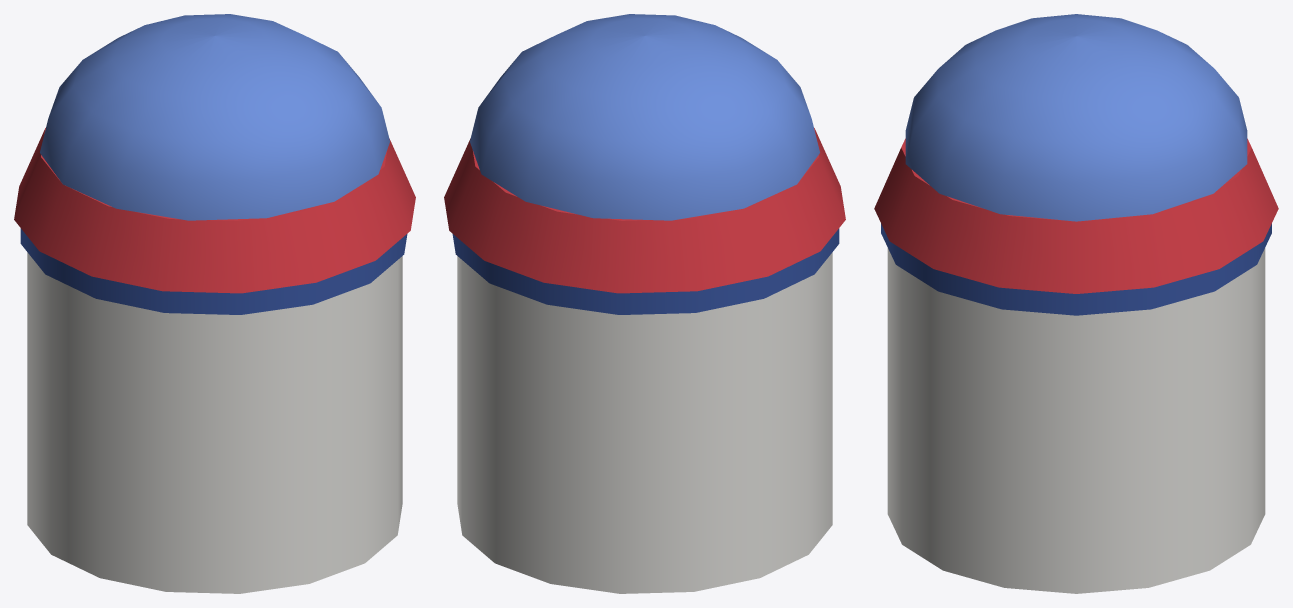
The model's file is storage_drum.glb.
The picture shows the model from 3 angles, left to right: view 1: azimuth 30°, elevation 25°; view 2: azimuth 150°, elevation 25°; view 3: azimuth 270°, elevation 25°; orthographic projection.
Visible parts, largest first — view 1: root; view 2: root; view 3: root.
Part boxes in pixels (<box>): root: <box>14,14,415,593</box>; root: <box>444,14,845,593</box>; root: <box>874,14,1278,593</box>.
Size of the model in its own units: 0.6 by 0.782 by 0.6.
